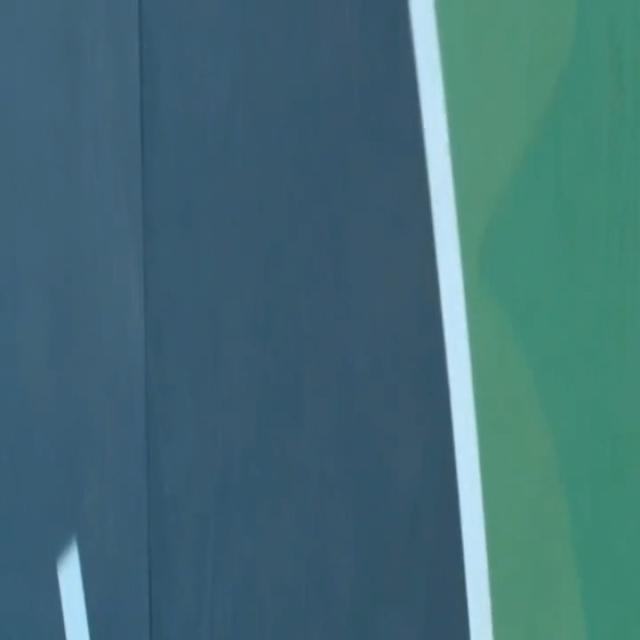center: (57, 536, 90, 639)
right: (408, 0, 492, 639)
